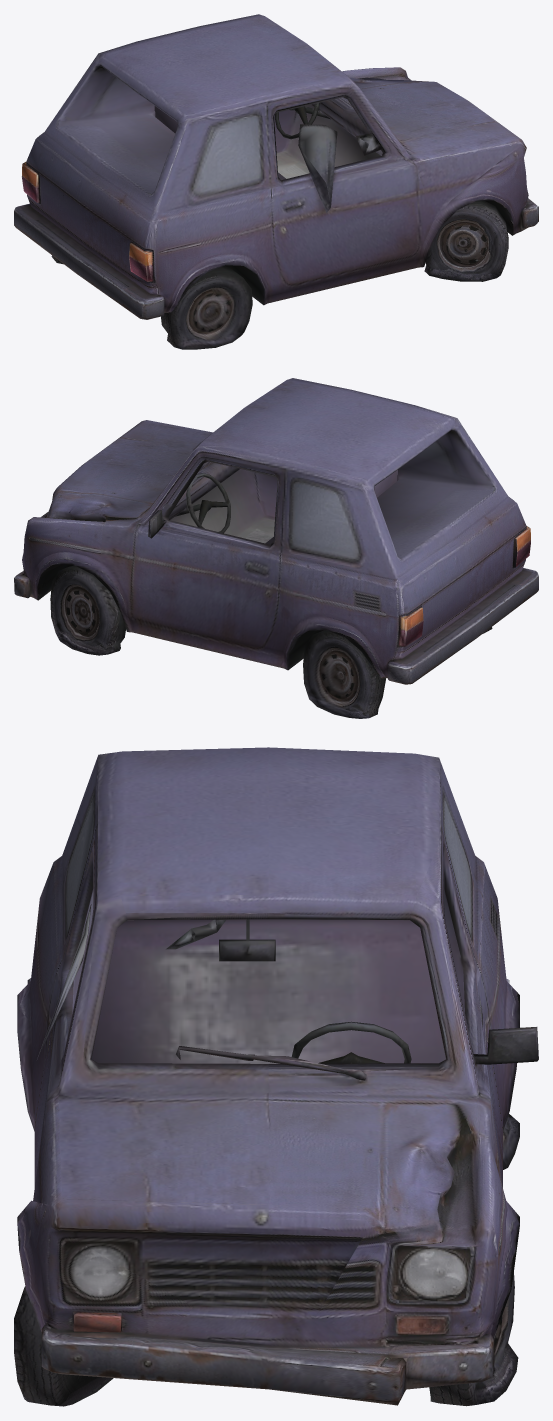
Rendered from car_02.glb.
The picture shows the model from 3 angles, top to bottom: view 1: azimuth 30°, elevation 25°; view 2: azimuth 150°, elevation 25°; view 3: azimuth 270°, elevation 25°; orthographic projection. The views are drawn at different scales.
Visible parts, largest first — view 1: tripo_node_648b3e1a-f584-4be6-b95c-a47369f36d09; view 2: tripo_node_648b3e1a-f584-4be6-b95c-a47369f36d09; view 3: tripo_node_648b3e1a-f584-4be6-b95c-a47369f36d09.
Part boxes in pixels (x1=…): tripo_node_648b3e1a-f584-4be6-b95c-a47369f36d09: x1=14, y1=14, x2=538, y2=349; tripo_node_648b3e1a-f584-4be6-b95c-a47369f36d09: x1=14, y1=378, x2=538, y2=718; tripo_node_648b3e1a-f584-4be6-b95c-a47369f36d09: x1=14, y1=747, x2=538, y2=1406.
Bounding box in the file's own units: 0.998 × 0.5137 × 0.5957.
1 material, 1 textured.
